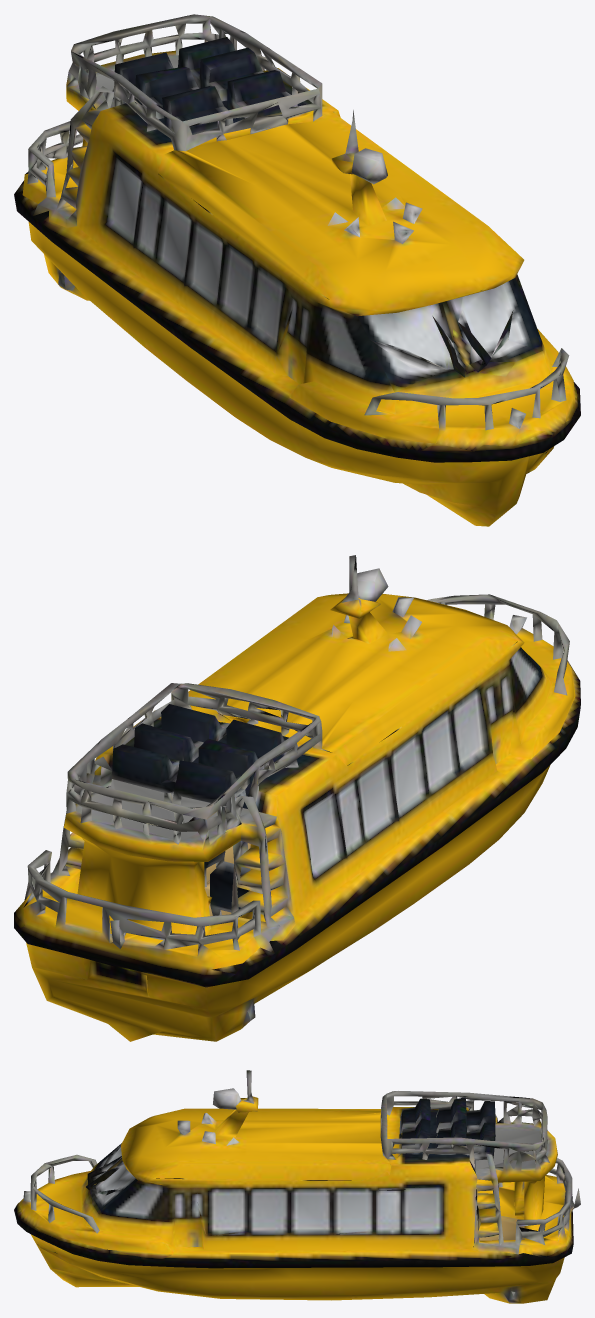
File: water_taxi.glb
The picture shows the model from 3 angles, top to bottom: view 1: azimuth 30°, elevation 25°; view 2: azimuth 150°, elevation 25°; view 3: azimuth 270°, elevation 25°; orthographic projection. The views are drawn at different scales.
Parts seen in each view (by area): view 1: water_taxi; view 2: water_taxi; view 3: water_taxi.
Boxes of the visible parts, left/top/right/bottom form: water_taxi: left=14, top=14, right=580, bottom=526; water_taxi: left=14, top=555, right=580, bottom=1041; water_taxi: left=14, top=1070, right=580, bottom=1303.
Size of the model in its own units: 5.29 by 6.37 by 15.09.
1 material, 1 textured.
